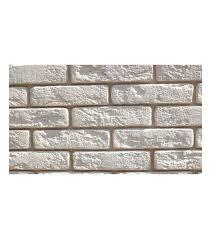Bricks: (33, 131, 109, 150), (114, 130, 193, 148), (73, 108, 151, 126), (73, 153, 150, 171), (112, 87, 193, 104), (73, 66, 151, 82), (33, 89, 108, 105), (153, 152, 203, 173), (9, 109, 69, 126), (11, 153, 68, 170), (8, 68, 66, 84), (157, 108, 202, 126), (156, 65, 201, 79), (9, 131, 30, 150), (9, 89, 26, 107), (197, 129, 202, 150), (197, 87, 202, 105)
